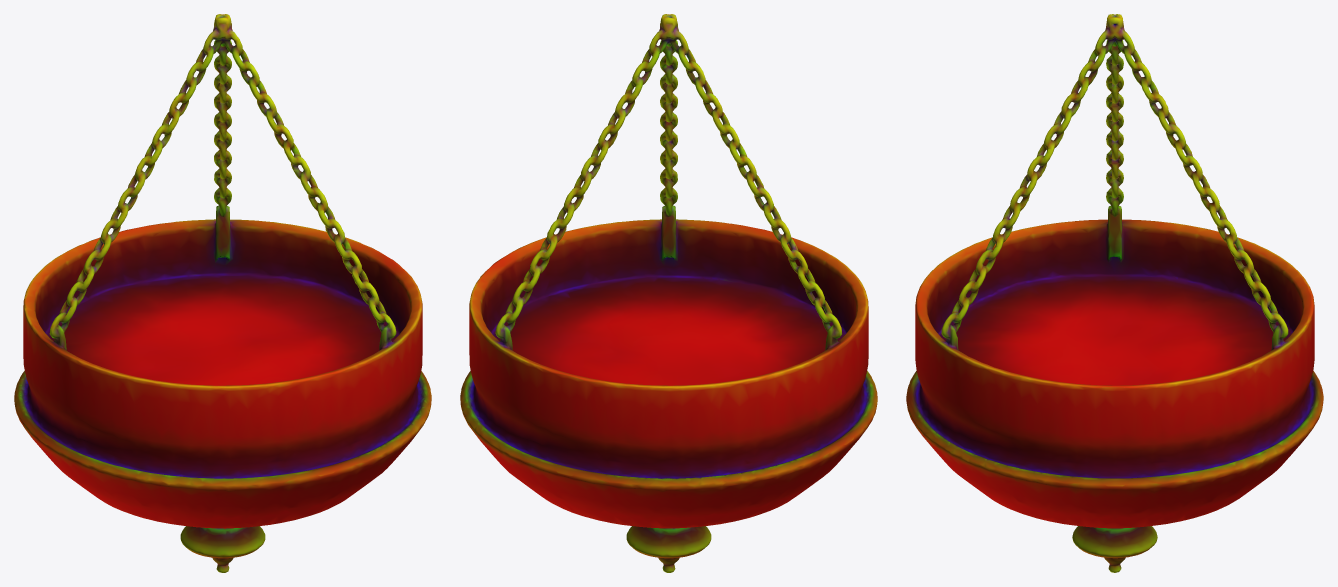
The model's file is HangingPlant.fbx.
3 views of the same model, side by side, from view 1: azimuth 30°, elevation 25°; view 2: azimuth 150°, elevation 25°; view 3: azimuth 270°, elevation 25° (orthographic).
Visible parts, largest first — view 1: transform1; view 2: transform1; view 3: transform1.
Boxes of the visible parts, x1,y1,x2,y2 form: transform1: (14,14,431,572); transform1: (460,14,877,572); transform1: (906,14,1323,572).
Bounding box in the file's own units: 202 × 202 × 297.
